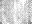person: (14, 19, 18, 23), (21, 0, 25, 4)
